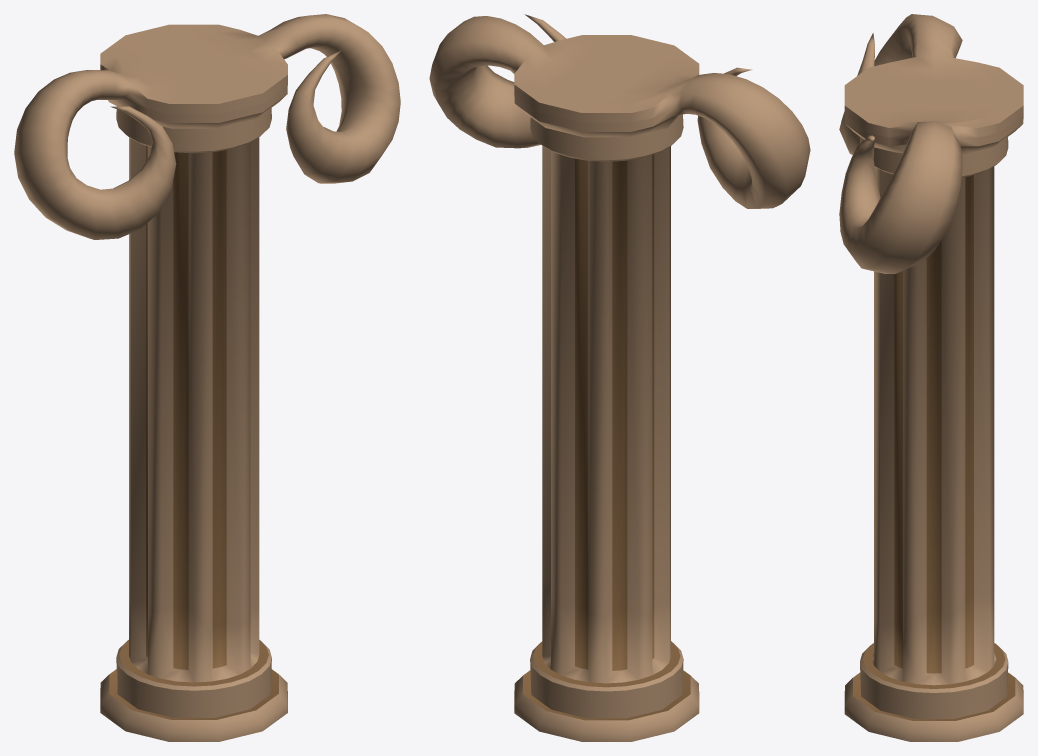
The model's file is Pilar Base_2_Long.fbx.
The picture shows the model from 3 angles, left to right: view 1: azimuth 30°, elevation 25°; view 2: azimuth 150°, elevation 25°; view 3: azimuth 270°, elevation 25°; orthographic projection. The views are drawn at different scales.
Parts seen in each view (by area): view 1: Pillar_Bot.001; view 2: Pillar_Bot.001; view 3: Pillar_Bot.001.
Boxes of the visible parts, x1,y1,x2,y2 form: Pillar_Bot.001: (14,14,400,741); Pillar_Bot.001: (429,14,810,741); Pillar_Bot.001: (839,14,1023,741).
Size of the model in its own units: 439 by 199 by 750.
